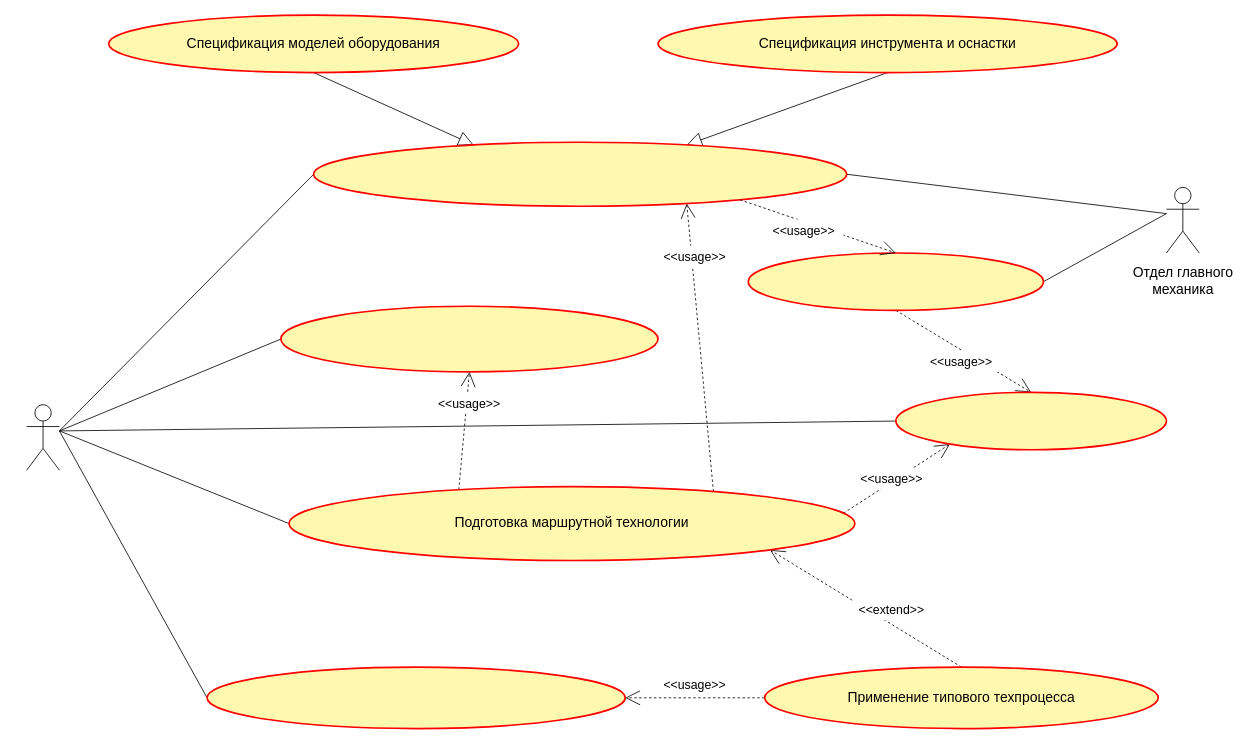
The diagram is 1247 pixels wide and 743 high, and some of its shapes have lost their labels. Here are the shapes that lost their labels. From the top down, the box of each, then its label:
(312, 141, 847, 207): Спецификация моделей средств труда
(747, 252, 1044, 311): Учёт средств труда
(280, 305, 658, 372): Описание операций и требований к исполнителям
(26, 404, 59, 470): Технолог
(895, 391, 1167, 450): Спецификация ГРЦ
(206, 666, 626, 729): Ведение типовых техпроцессов
